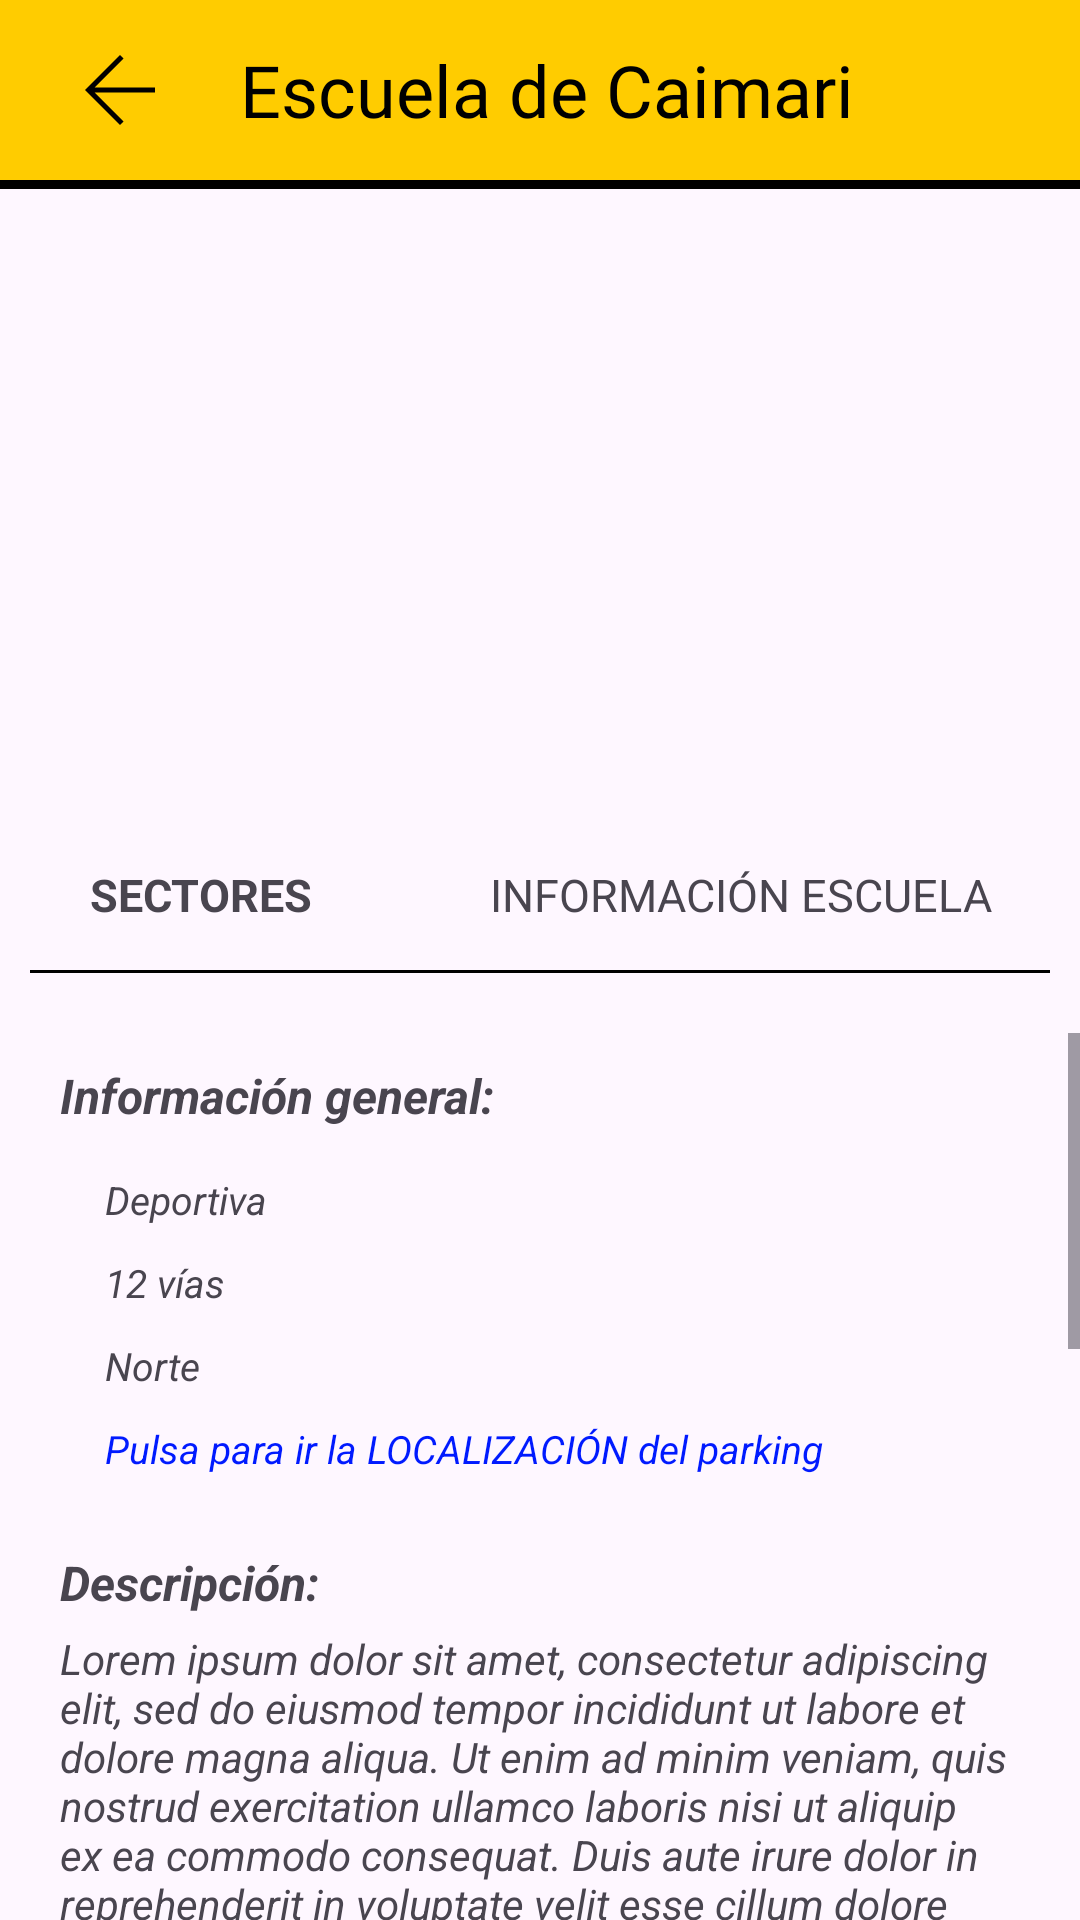

Where icons sit on this 1080x1920 app screen, as (x1, y1, x2, y2):
flecha atras: (85, 55, 155, 125)
